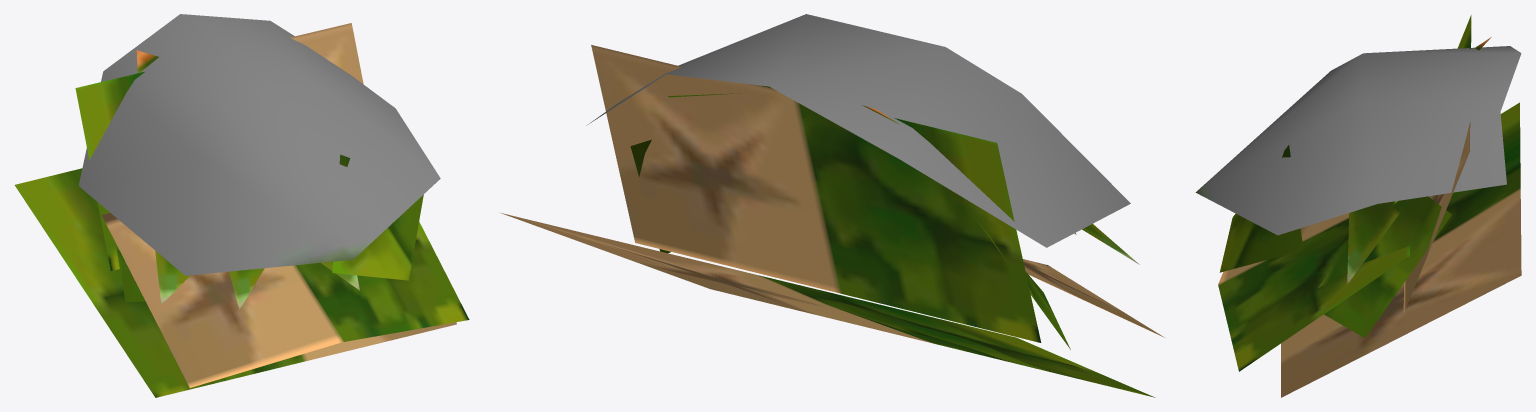
The model's file is fg_bushC_2_s.dae.
The picture shows the model from 3 angles, left to right: view 1: azimuth 30°, elevation 25°; view 2: azimuth 150°, elevation 25°; view 3: azimuth 270°, elevation 25°; orthographic projection. The views are drawn at different scales.
Parts seen in each view (by area): view 1: fg_bushC_2_s; view 2: fg_bushC_2_s; view 3: fg_bushC_2_s.
Part boxes in pixels (x1,y1,x2,y2): fg_bushC_2_s: (14, 14, 469, 397); fg_bushC_2_s: (501, 14, 1164, 397); fg_bushC_2_s: (1195, 15, 1521, 397).
Size of the model in its own units: 47.83 by 34.27 by 38.04.
1 material, 1 textured.
